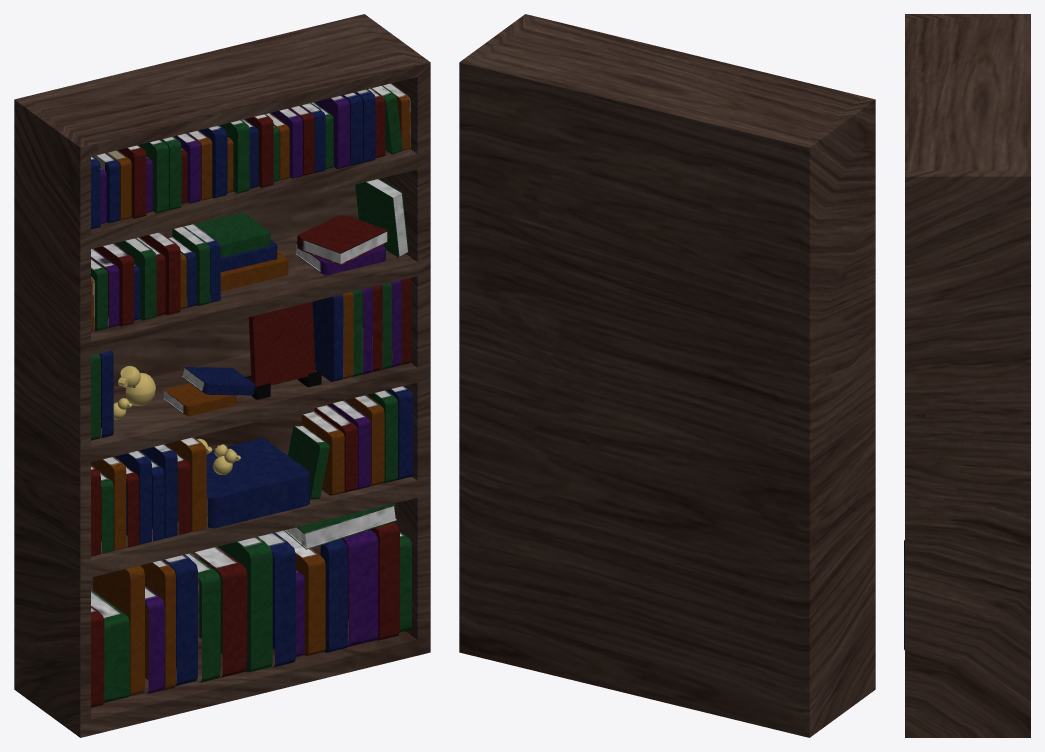
The picture shows the model from 3 angles, left to right: view 1: azimuth 30°, elevation 25°; view 2: azimuth 150°, elevation 25°; view 3: azimuth 270°, elevation 25°; orthographic projection. The views are drawn at different scales.
Visible parts, largest first — view 1: pCube78, BookOriginal45, Book1, pCube44, BookOriginal37, BookOriginal40, BookOriginal42, pCube38, BookOriginal3, pCube43, pCube36, BookOriginal4 (+72 smaller); view 2: pCube78; view 3: pCube78.
Boxes of the visible parts, x1=… form: pCube78: x1=14, y1=14, x2=430, y2=737; BookOriginal45: x1=206, y1=437, x2=309, y2=528; Book1: x1=248, y1=301, x2=315, y2=386; pCube44: x1=199, y1=537, x2=272, y2=672; BookOriginal37: x1=343, y1=529, x2=378, y2=647; BookOriginal40: x1=193, y1=546, x2=247, y2=677; BookOriginal42: x1=93, y1=565, x2=144, y2=696; pCube38: x1=258, y1=532, x2=295, y2=667; BookOriginal3: x1=297, y1=215, x2=387, y2=265; pCube43: x1=163, y1=554, x2=197, y2=685; pCube36: x1=342, y1=522, x2=399, y2=640; BookOriginal4: x1=355, y1=178, x2=409, y2=257; pCube78: x1=459, y1=14, x2=875, y2=737; pCube78: x1=905, y1=14, x2=1030, y2=737.
Size of the model in its own units: 0.162 by 0.2608 by 0.0534.
Materials: 1 (1 with a texture image).
